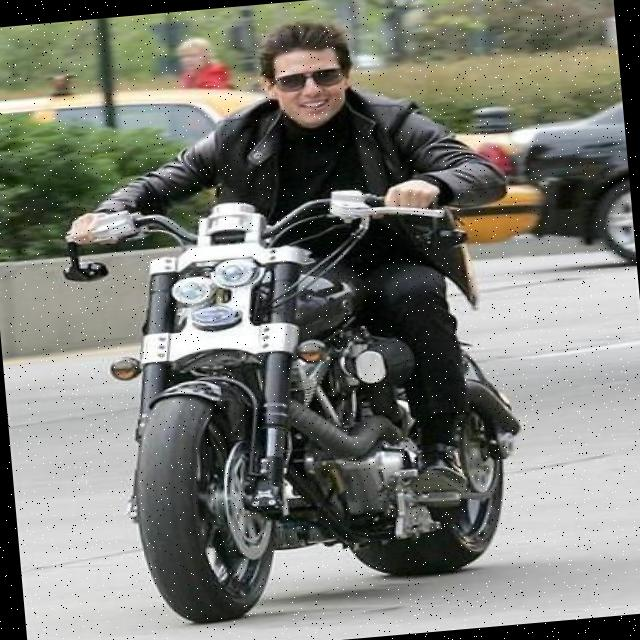No helmet: (262, 13, 353, 128)
